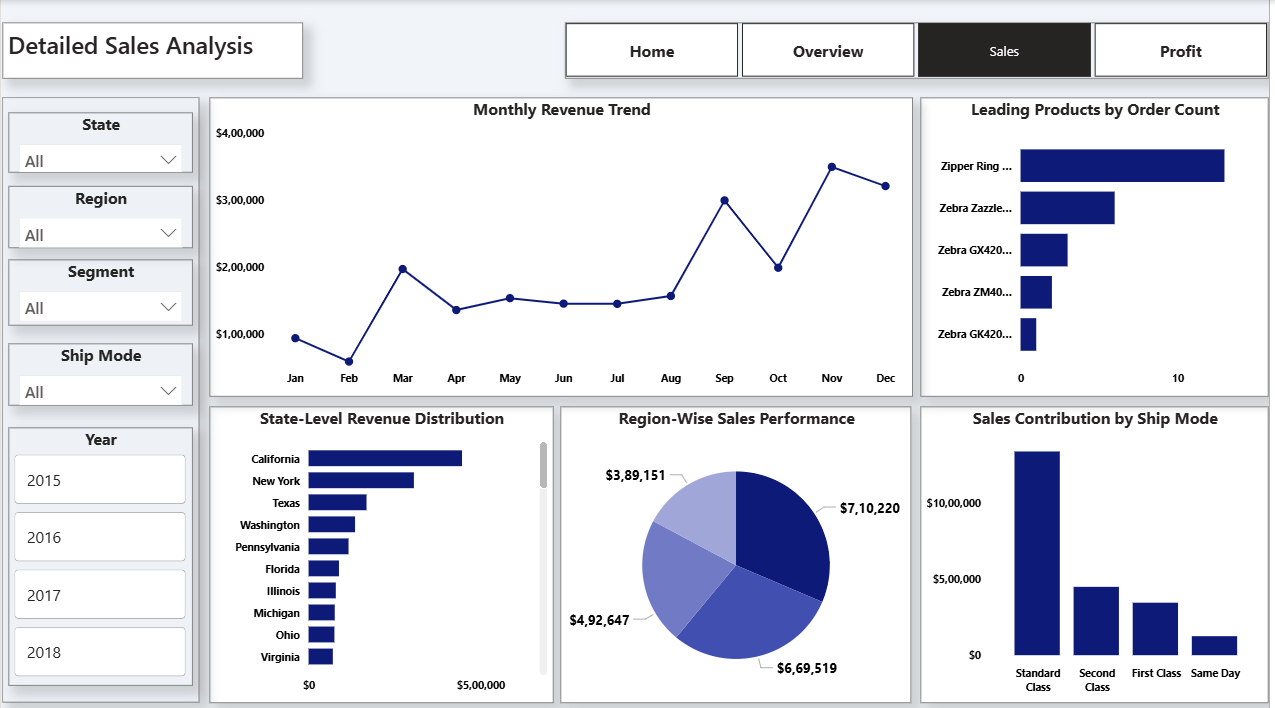

Layout of this report page (visuals, bound fields, positions):
{"tool":"powerbi","page":{"name":"Sales","canvas":[1280,720],"ordinal":2},"visuals":[{"type":"clusteredBarChart","title":"State-Level Revenue Distribution","fields":{"Category":["Sales.State"],"Y":["All measures.Total Sales"]},"box":[209.8,409.6,347.2,299.1],"z":0},{"type":"pieChart","title":"Region-Wise Sales Performance","fields":{"Y":["All measures.Total Sales"],"Category":["Sales.Region"]},"box":[565.5,409.6,354.3,299.1],"z":1000},{"type":"columnChart","title":"Sales Contribution by Ship Mode","fields":{"Category":["Sales.Ship Mode"],"Y":["All measures.Total Sales"]},"box":[928.3,409.6,351.5,299.1],"z":2000},{"type":"barChart","title":"Leading Products by Order Count","fields":{"Category":["Sales.Product Name"],"Y":["All measures.Total Orders"]},"box":[928.3,97.8,351.5,301.9],"z":3000},{"type":"lineChart","title":"Monthly Revenue Trend","fields":{"Y":["All measures.Total Sales"],"Category":["Date_Table.Month Short"]},"box":[209.8,97.8,710.1,301.9],"z":4000},{"type":"textbox","box":[1.4,22.7,303.3,56.7],"z":5000},{"type":"shape","box":[1.4,97.8,198.4,610.9],"z":6000},{"type":"advancedSlicerVisual","fields":{"Values":["Date_Table.Order Date.Variation.Date Hierarchy.Year"]},"box":[7.1,430.9,185.7,260.8],"z":7000},{"type":"slicer","title":"State","fields":{"Values":["Sales.State"]},"box":[7.1,113.4,185.7,60.9],"z":8000},{"type":"slicer","title":"Segment","fields":{"Values":["Sales.Segment"]},"box":[7.1,262.2,185.7,66.6],"z":9000},{"type":"slicer","title":"Region","fields":{"Values":["Sales.Region"]},"box":[7.1,187.1,185.7,62.4],"z":10000},{"type":"pageNavigator","box":[569.8,22.7,710.1,56.7],"z":11000},{"type":"slicer","title":"Ship Mode","fields":{"Values":["Sales.Ship Mode"]},"box":[7.1,347.2,185.7,62.4],"z":12000}]}

Visuals, with their boxes in screenshot pixels (x1, y1, x2, y2), scaled from the page's 1280x720 canvas onto the 1275x708 screenshot:
"State-Level Revenue Distribution" clusteredBarChart: (left=209, top=403, right=555, bottom=697)
"Region-Wise Sales Performance" pieChart: (left=563, top=403, right=916, bottom=697)
"Sales Contribution by Ship Mode" columnChart: (left=925, top=403, right=1274, bottom=697)
"Leading Products by Order Count" barChart: (left=925, top=96, right=1274, bottom=393)
"Monthly Revenue Trend" lineChart: (left=209, top=96, right=916, bottom=393)
textbox: (left=1, top=22, right=304, bottom=78)
shape: (left=1, top=96, right=199, bottom=697)
advancedSlicerVisual - Date_Table.Order Date.Variation.Date Hierarchy.Year: (left=7, top=424, right=192, bottom=680)
"State" slicer: (left=7, top=112, right=192, bottom=171)
"Segment" slicer: (left=7, top=258, right=192, bottom=323)
"Region" slicer: (left=7, top=184, right=192, bottom=245)
pageNavigator: (left=568, top=22, right=1274, bottom=78)
"Ship Mode" slicer: (left=7, top=341, right=192, bottom=403)
